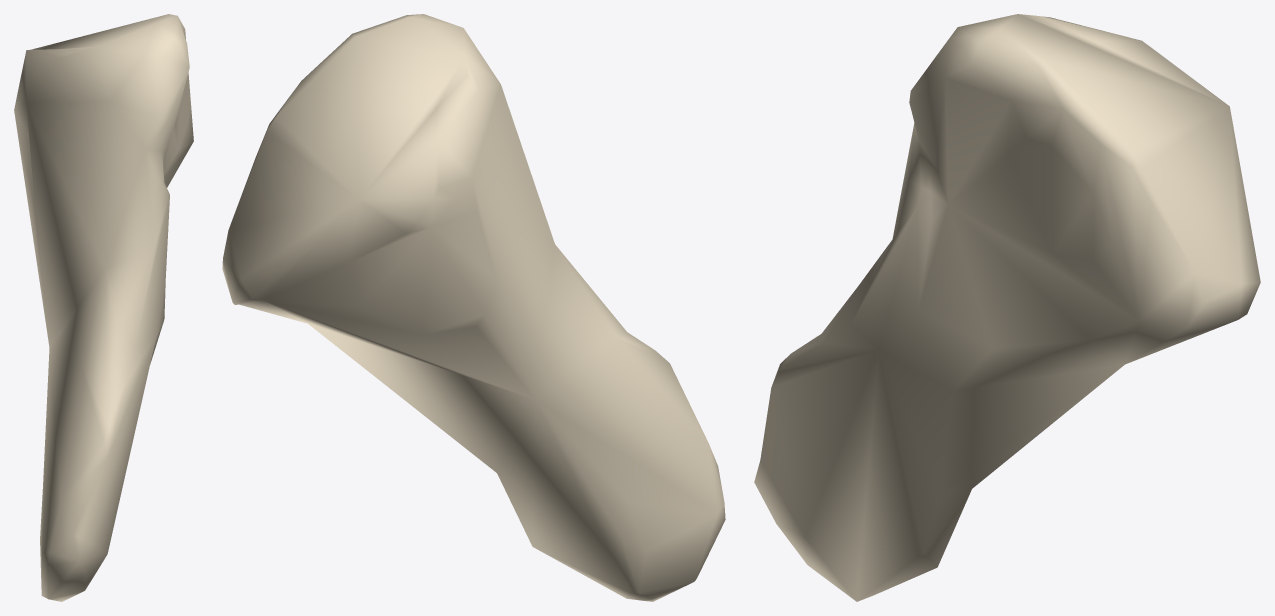
File: distal-phalanx-of-first-finger-of-hand-r.glb
3 views of the same model, side by side, from view 1: azimuth 30°, elevation 25°; view 2: azimuth 150°, elevation 25°; view 3: azimuth 270°, elevation 25° (orthographic). The views are drawn at different scales.
Visible parts, largest first — view 1: Distal phalanx of first finger of hand.r; view 2: Distal phalanx of first finger of hand.r; view 3: Distal phalanx of first finger of hand.r.
Boxes of the visible parts, x1,y1,x2,y2 form: Distal phalanx of first finger of hand.r: (14, 14, 193, 601); Distal phalanx of first finger of hand.r: (222, 14, 725, 601); Distal phalanx of first finger of hand.r: (754, 14, 1260, 601).
Size of the model in its own units: 0.014 by 0.0241 by 0.0168.
